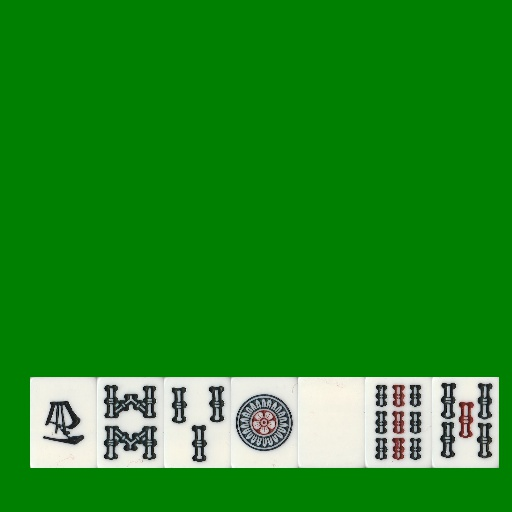1p: (231, 377, 298, 468)
3s: (164, 377, 231, 468)
5s: (432, 377, 499, 468)
8s: (97, 377, 164, 468)
9s: (365, 377, 432, 468)
west: (30, 377, 97, 468)
white: (298, 377, 365, 468)
